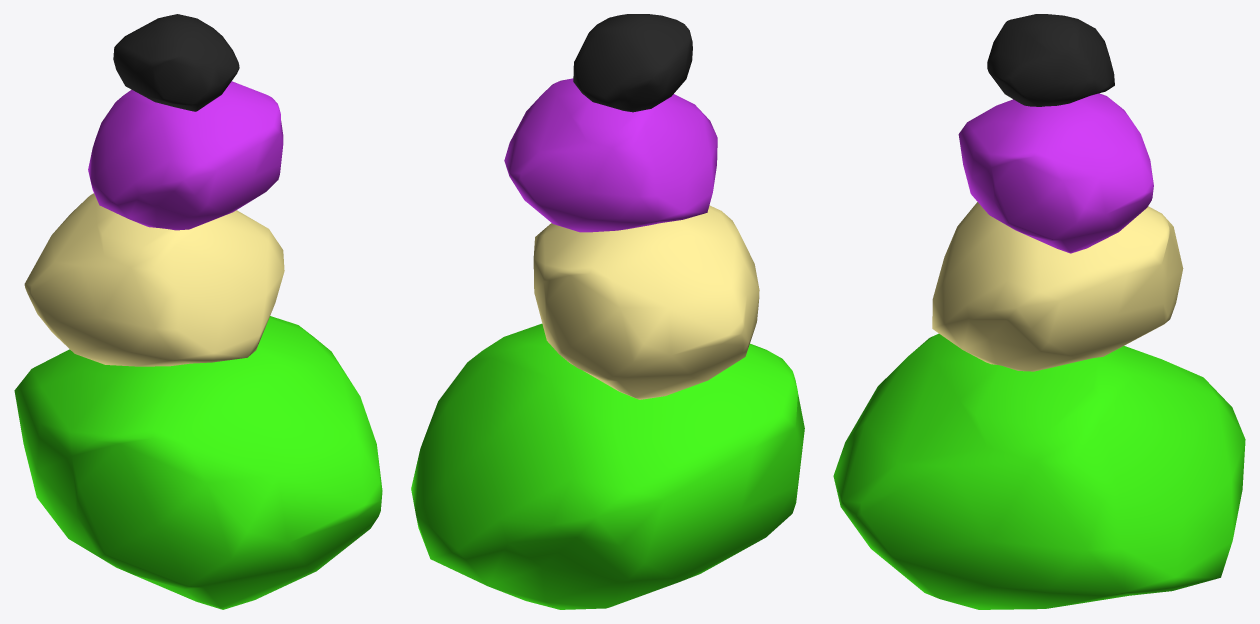
File: Stone in a row.FBX
3 views of the same model, side by side, from view 1: azimuth 30°, elevation 25°; view 2: azimuth 150°, elevation 25°; view 3: azimuth 270°, elevation 25° (orthographic). The views are drawn at different scales.
Visible parts, largest first — view 1: Gravel_005, Gravel_006, Gravel_007, Gravel_008; view 2: Gravel_005, Gravel_006, Gravel_007, Gravel_008; view 3: Gravel_005, Gravel_006, Gravel_007, Gravel_008.
Part boxes in pixels (box(x1,y1,x2,y2)): Gravel_005: box(14, 316, 382, 609); Gravel_006: box(24, 193, 284, 366); Gravel_007: box(88, 81, 283, 230); Gravel_008: box(113, 14, 239, 111); Gravel_005: box(411, 323, 804, 609); Gravel_006: box(533, 205, 759, 399); Gravel_007: box(504, 78, 717, 232); Gravel_008: box(573, 14, 692, 112); Gravel_005: box(833, 333, 1245, 609); Gravel_006: box(932, 202, 1183, 371); Gravel_007: box(958, 93, 1153, 253); Gravel_008: box(987, 14, 1114, 106).
Size of the model in its own units: 55.61 by 93.43 by 62.
